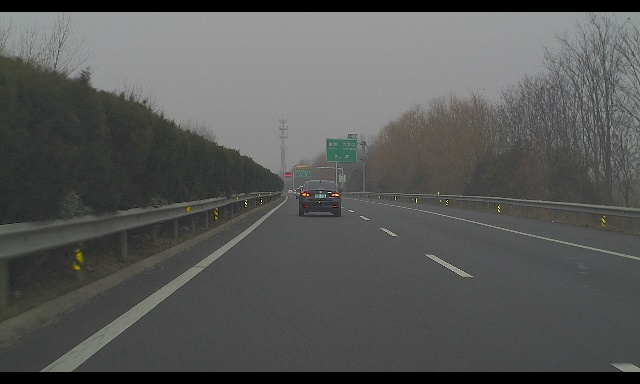car: (296, 180, 343, 217), (295, 186, 308, 199), (287, 190, 293, 195)
